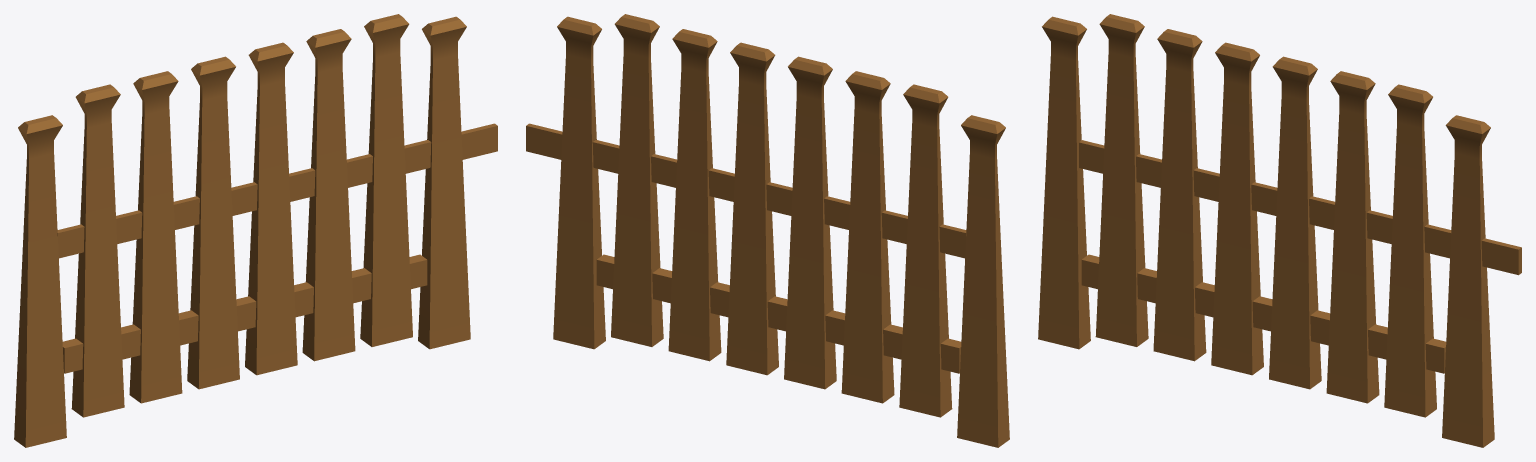
Rendered from Fence_3.fbx.
3 renders of one model, left to right at view 1: azimuth 30°, elevation 25°; view 2: azimuth 150°, elevation 25°; view 3: azimuth 330°, elevation 25°, orthographic.
Parts seen in each view (by area): view 1: Fence_4; view 2: Fence_4; view 3: Fence_4.
Part boxes in pixels (box(x1,y1,x2,y2)): Fence_4: box(14, 14, 497, 447); Fence_4: box(526, 14, 1009, 447); Fence_4: box(1038, 14, 1521, 447).
Size of the model in its own units: 119 by 80.27 by 5.04.
